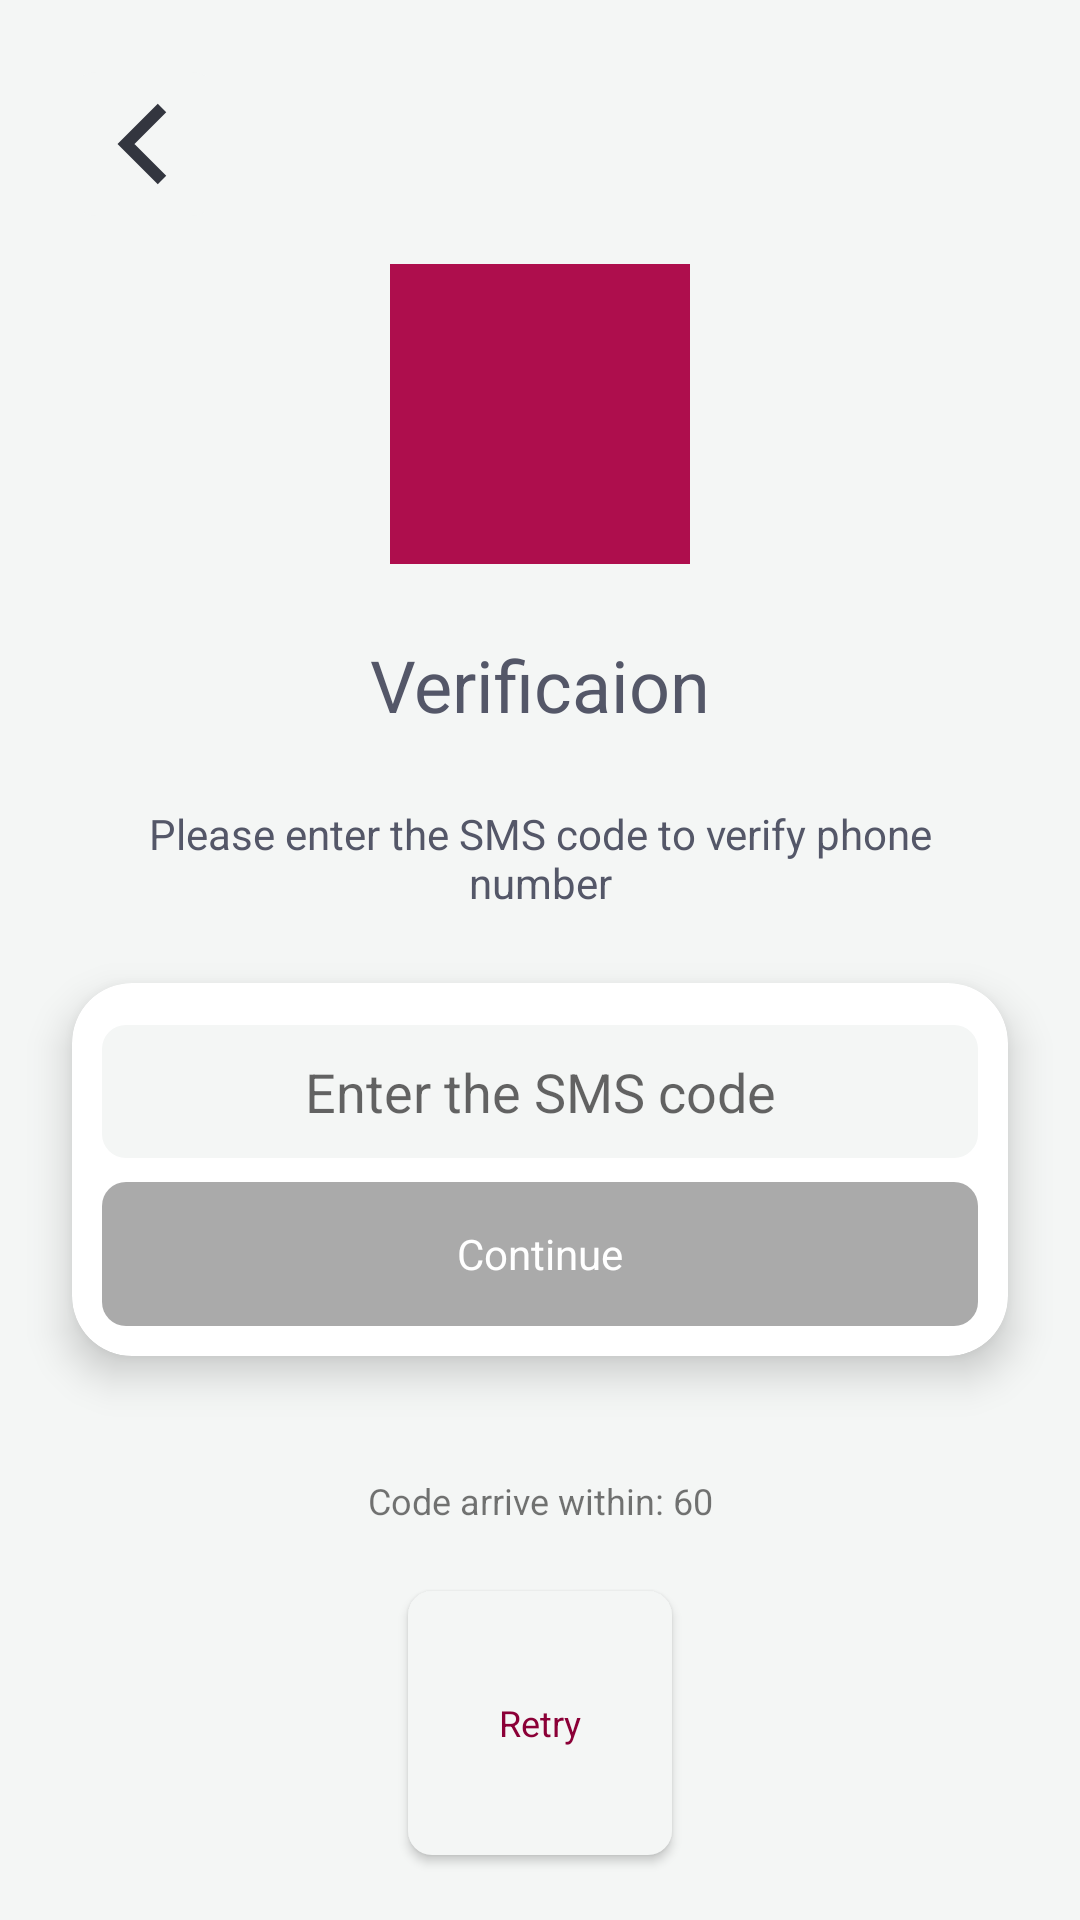

Icons on this 1080x1920 Android screen, each with the point to tap as [x,y]:
back: [142,144]
